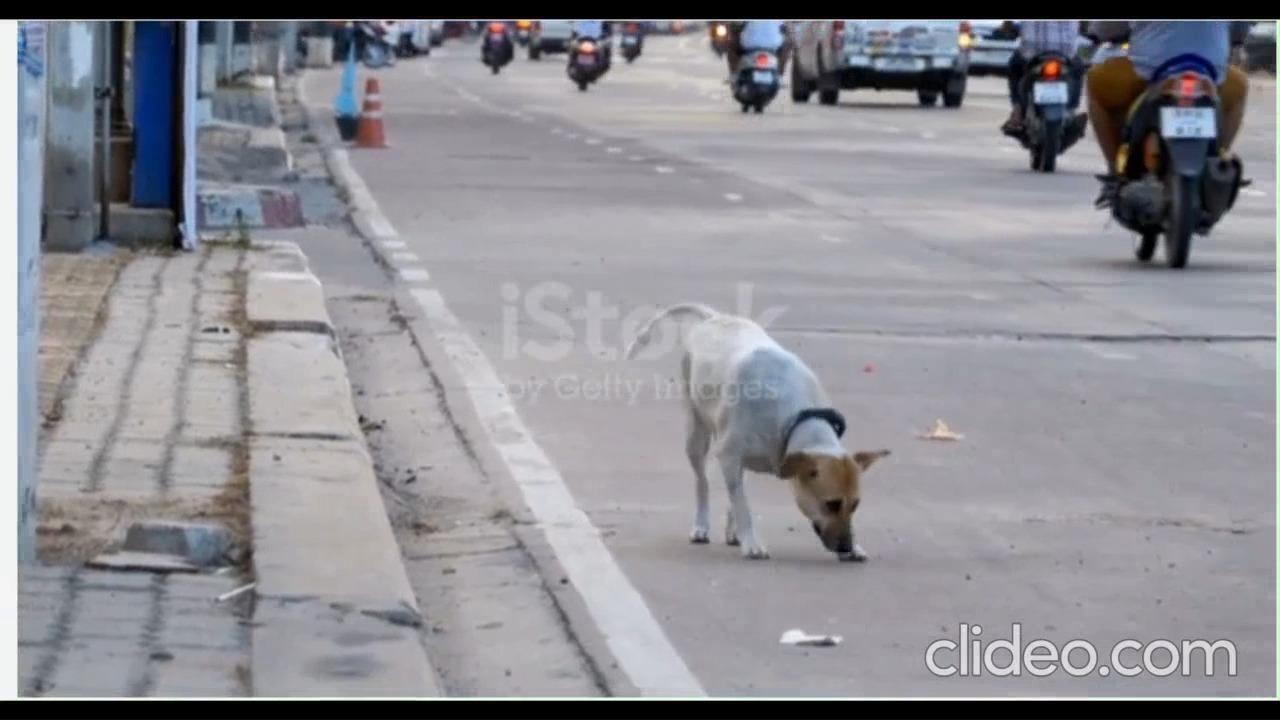dog: (636, 300, 884, 584)
